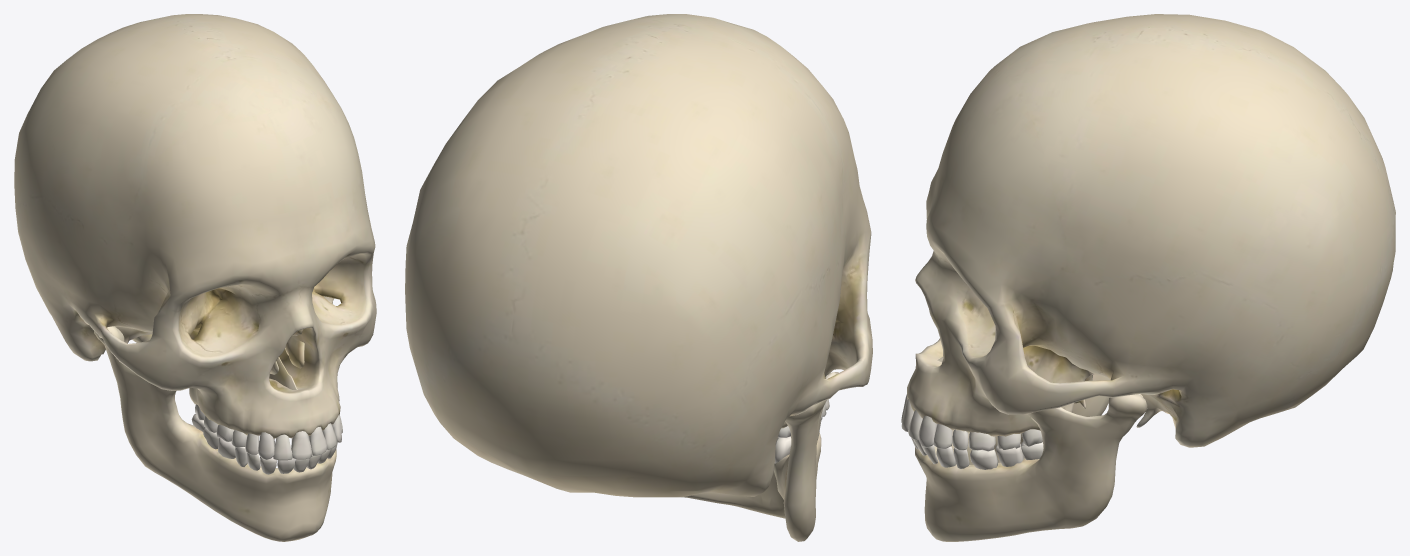
File: skull-transformed.glb
3 renders of one model, left to right at view 1: azimuth 30°, elevation 25°; view 2: azimuth 150°, elevation 25°; view 3: azimuth 270°, elevation 25°, orthographic. The views are drawn at different scales.
Visible parts, largest first — view 1: skull; view 2: skull; view 3: skull.
Part boxes in pixels (box(x1,y1,x2,y2)): skull: box(14, 14, 376, 541); skull: box(405, 14, 872, 541); skull: box(901, 14, 1395, 541).
Size of the model in its own units: 0.4638 by 0.689 by 0.6156.
Materials: 2 (2 with a texture image).
